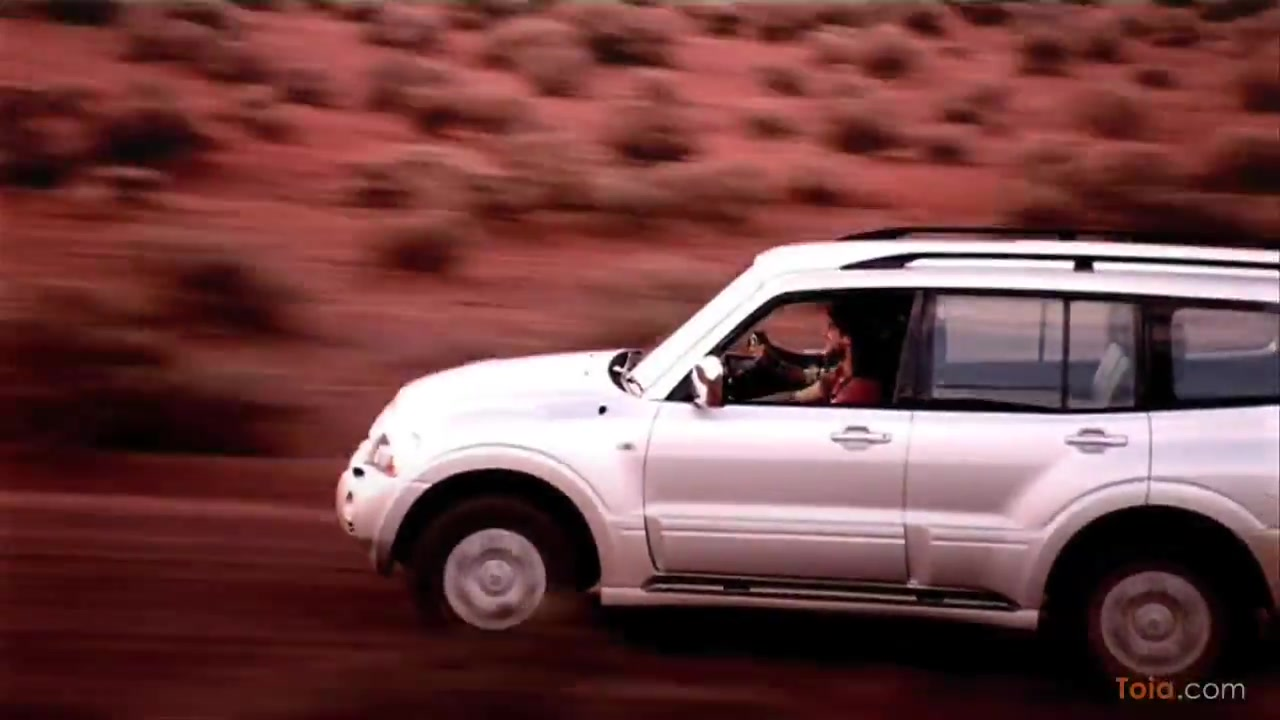car: (336, 222, 1280, 685)
